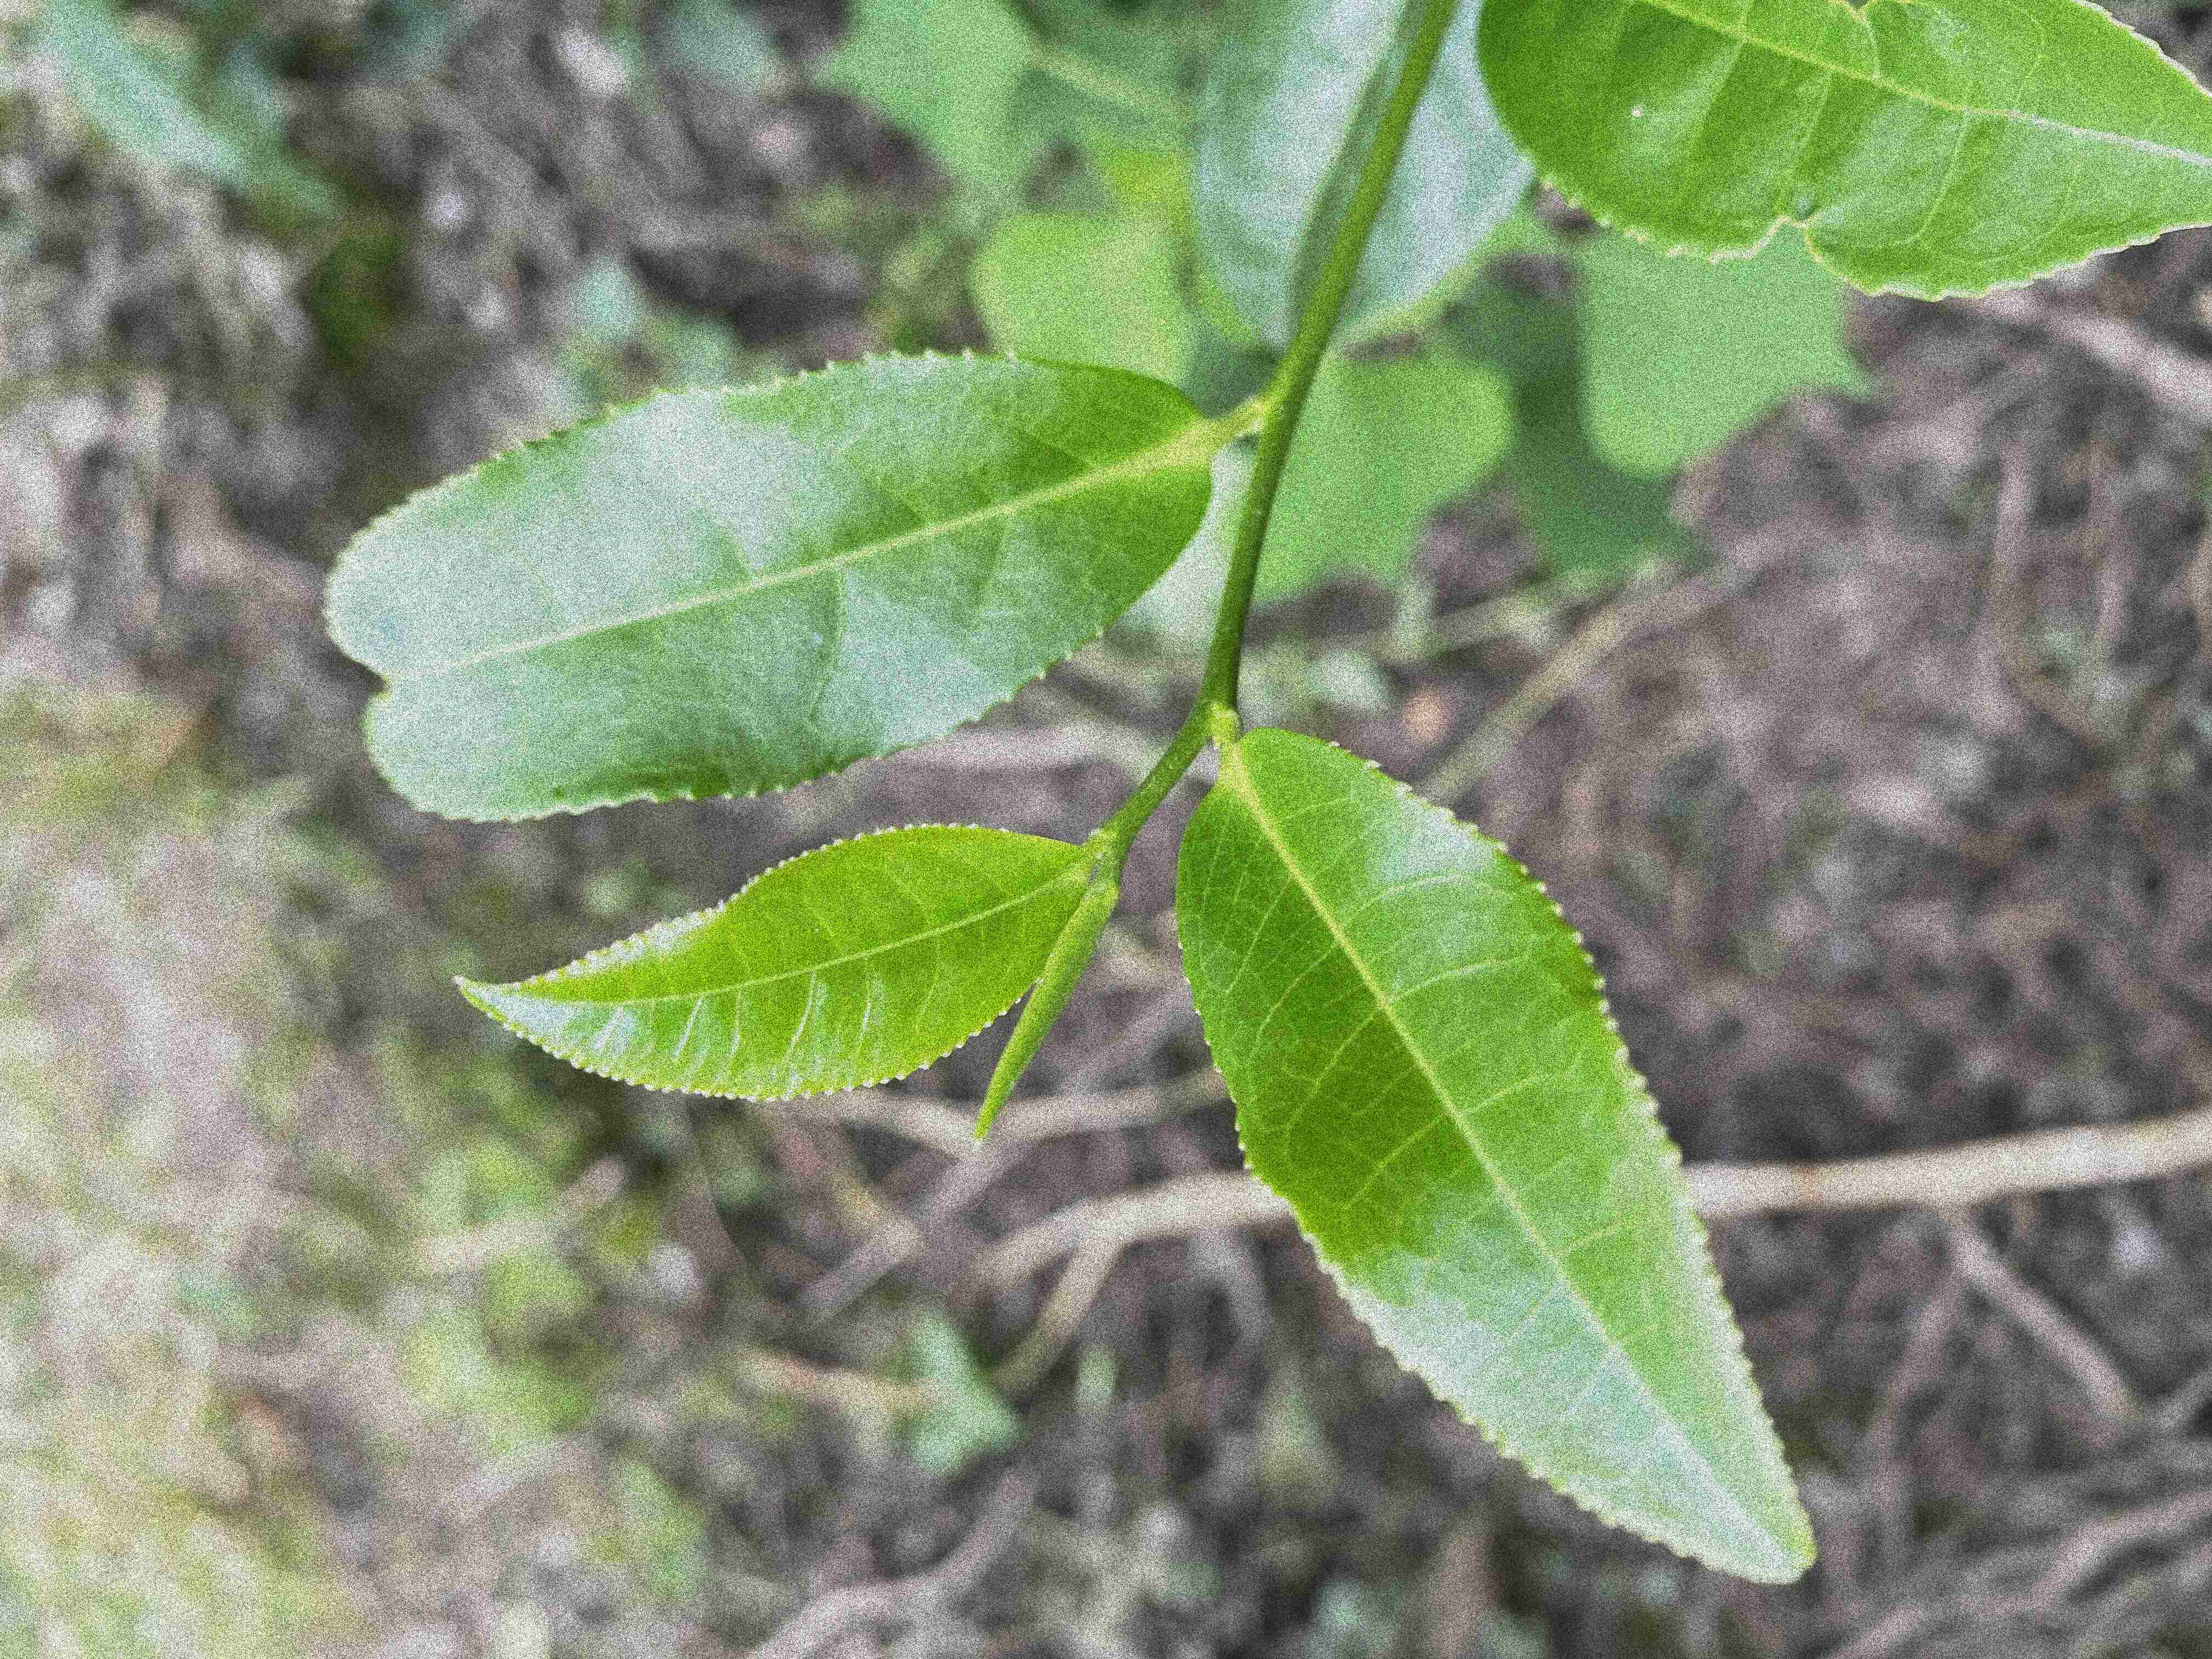healthy: (1177, 725, 1820, 1586), (322, 347, 1217, 826), (1474, 3, 2210, 303), (451, 817, 1096, 1101)
